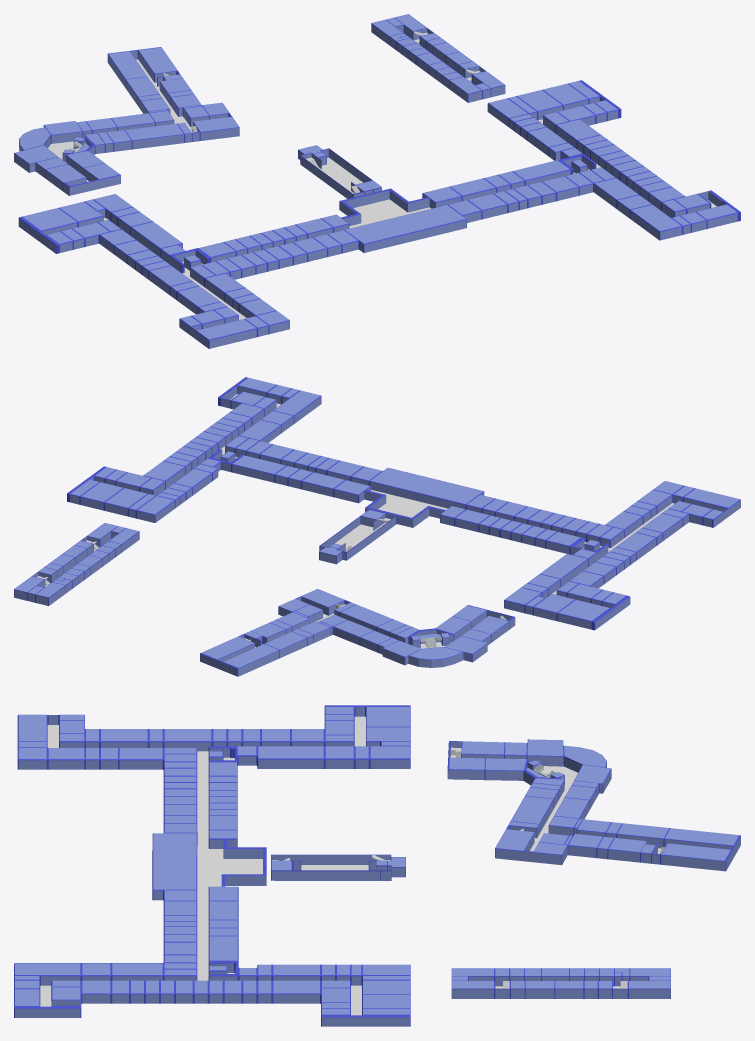
File: dstu-4.glb
3 renders of one model, top to bottom at view 1: azimuth 30°, elevation 25°; view 2: azimuth 150°, elevation 25°; view 3: azimuth 270°, elevation 25°, orthographic. The views are drawn at different scales.
Parts seen in each view (by area): view 1: Plane.006, Plane.001, 4, K4; view 2: Plane.006, Plane.001, 4, K4; view 3: Plane.006, Plane.001, 4, K4.
Part boxes in pixels (x1,y1,x2,y2): Plane.006: [18, 80, 740, 348]; Plane.001: [14, 47, 239, 195]; 4: [371, 14, 505, 102]; K4: [298, 145, 381, 198]; Plane.006: [67, 377, 740, 630]; Plane.001: [200, 589, 515, 676]; 4: [14, 523, 139, 605]; K4: [319, 509, 396, 564]; Plane.006: [14, 705, 410, 1026]; Plane.001: [447, 739, 740, 871]; 4: [451, 968, 670, 998]; K4: [271, 854, 405, 880].
Size of the model in its own units: 197 by 5.07 by 194.
